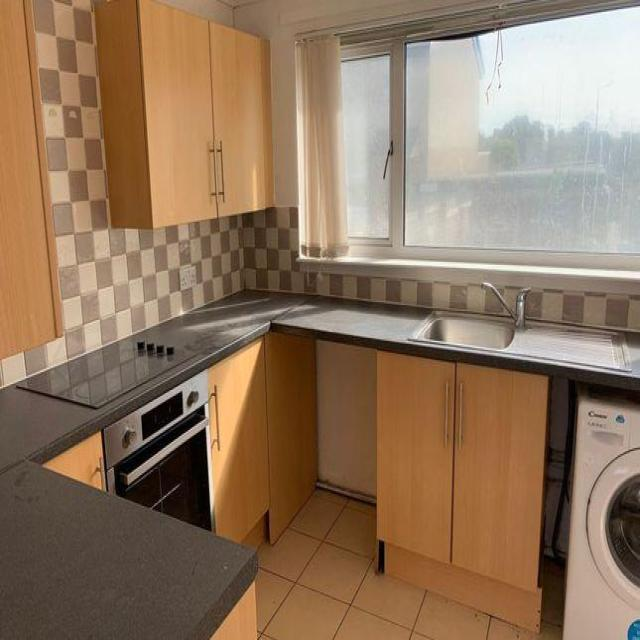Wall: (0, 0, 501, 385), (167, 0, 516, 205), (256, 489, 537, 639), (318, 339, 376, 496), (527, 287, 640, 329), (539, 561, 564, 638), (501, 287, 514, 301)
